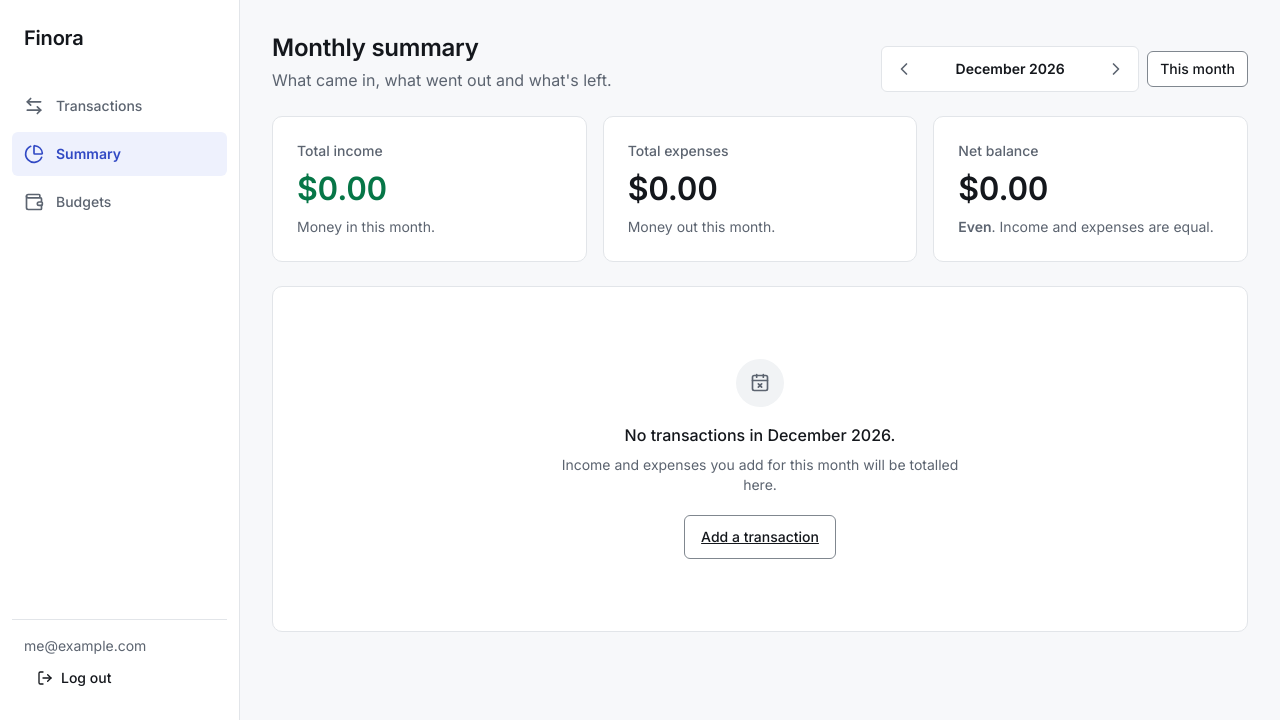
Scenario: month selector (US-28) › Next goes from December to January of the next year
The width and height of the screenshot is (1280, 720).
Expected: the text "Total income" is shown, [297,142,383,159]
What coordinates should you click on to do the following:
click the button named "Next month"
I would click on:
 (1116, 69)
Its box is [1098,51,1134,87].
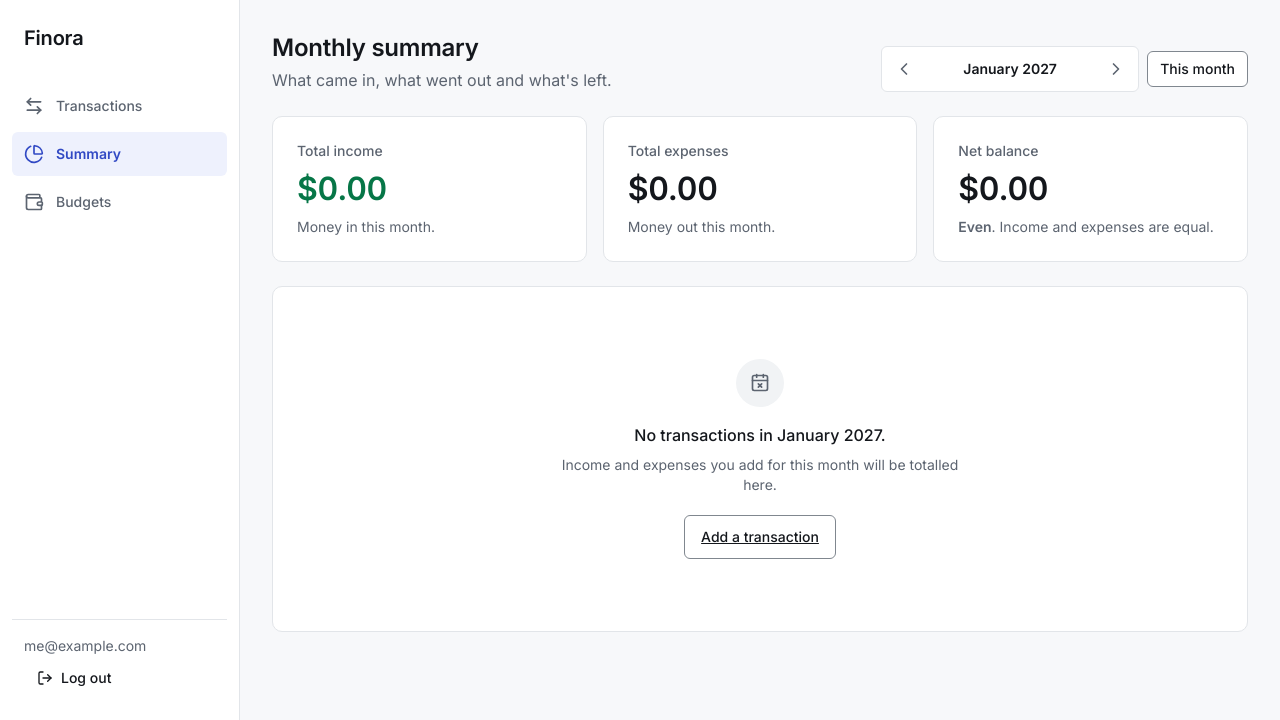
Expected: the text "January 2027" is shown, [963,60,1057,77]
